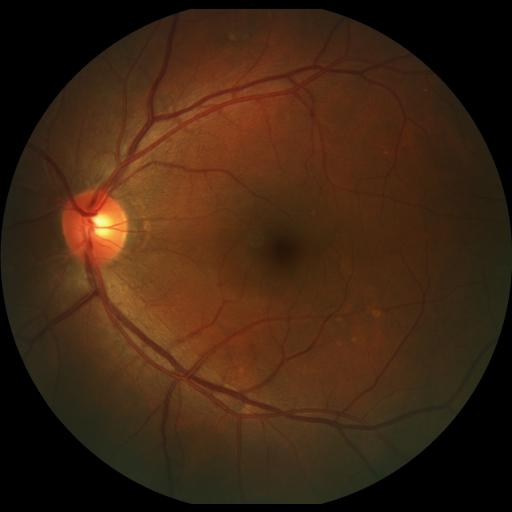Optic Cup: (91, 214, 112, 239)
Optic Disc: (62, 189, 127, 266)
